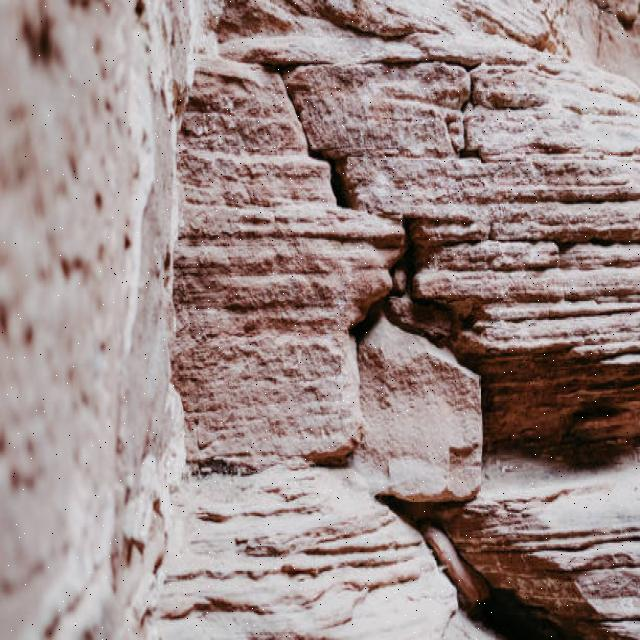Sedimentary: (160, 2, 640, 635)
